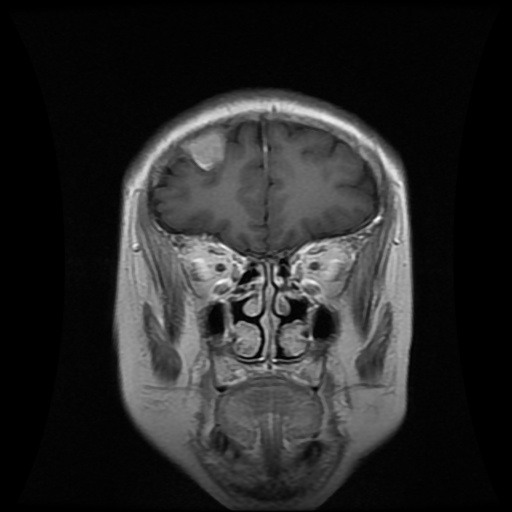meningioma: (182, 131, 226, 169)
